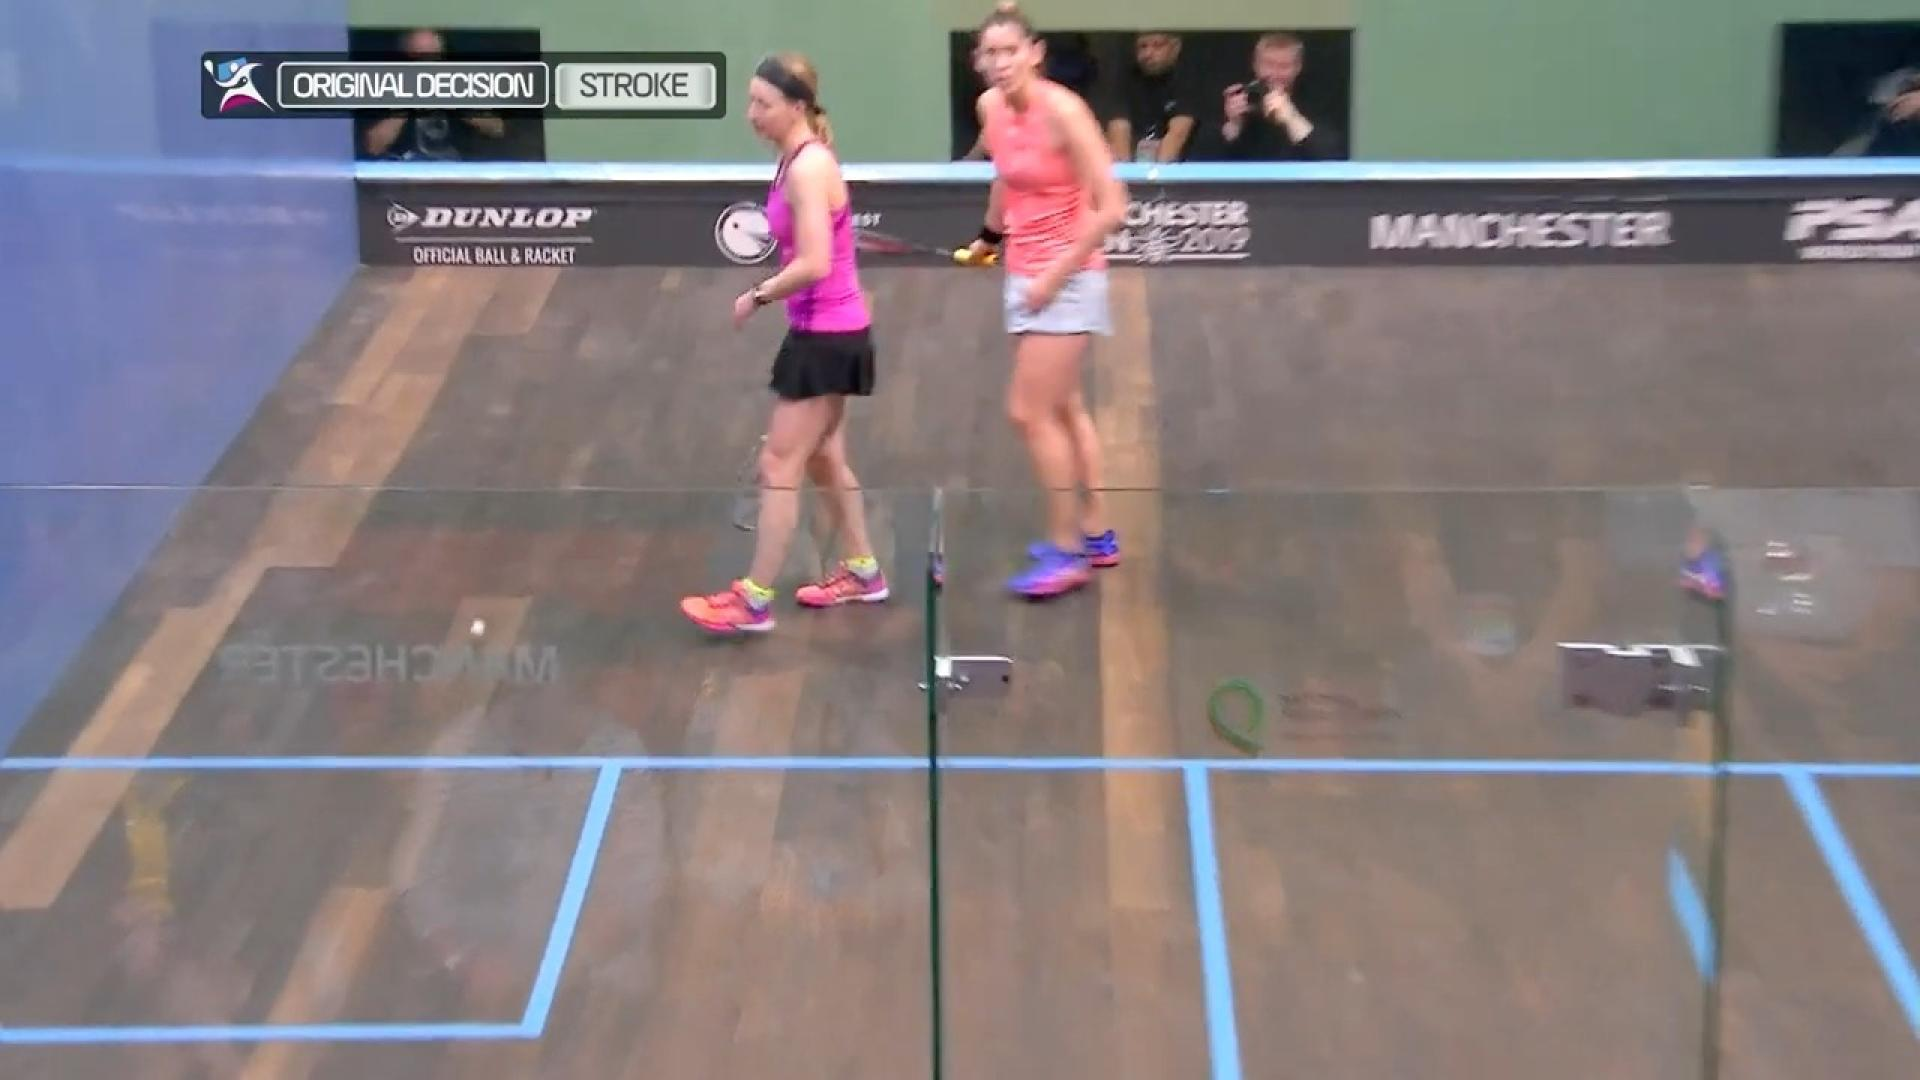Squash-Ball: (444, 600, 513, 655)
